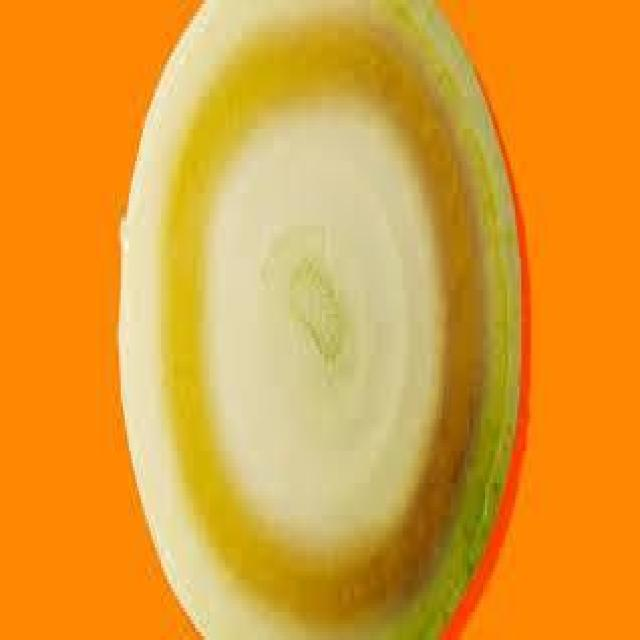Onion: (111, 12, 523, 632)
